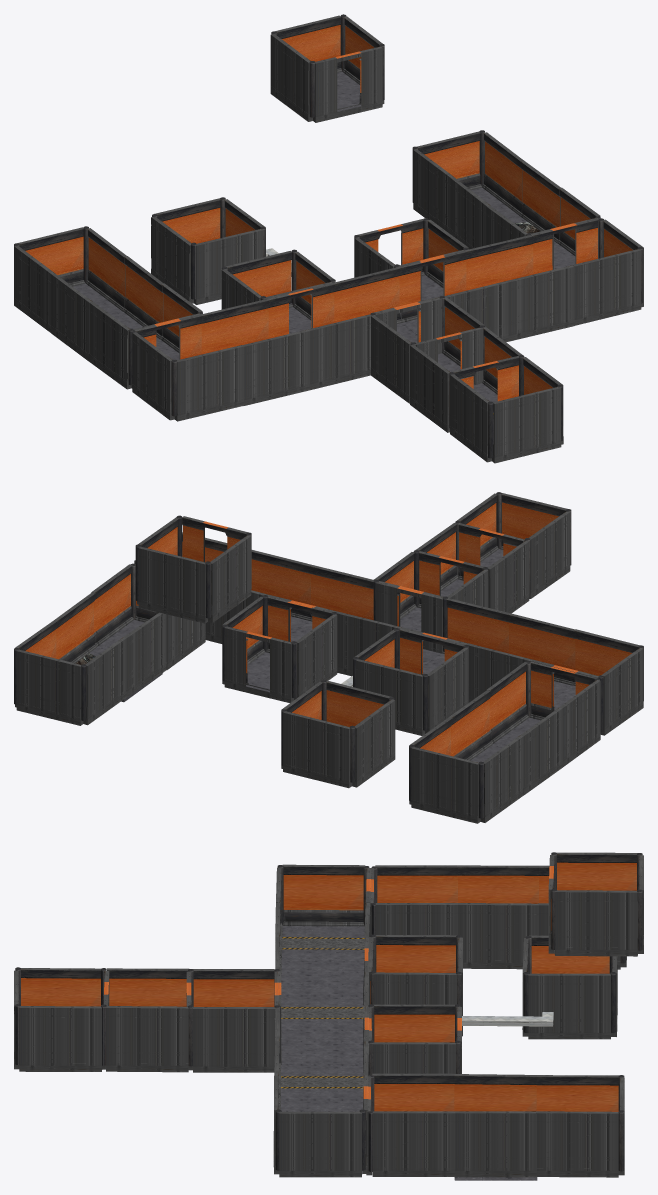
The model's file is Tutorial_Final.fbx.
3 views of the same model, one above another, from view 1: azimuth 30°, elevation 25°; view 2: azimuth 150°, elevation 25°; view 3: azimuth 270°, elevation 25° (orthographic). The views are drawn at different scales.
Parts seen in each view (by area): view 1: Wall_HallwayDoor.001, Wall_HallwayEnd.005, Wall_RoomDoor.002, Wall_RoomDoor.001, Wall_HallwayEnd.003, Wall_HallwayEnd.001, CornerPost.001, Wall_RoomDoor.003, CornerPost.009, CornerPost.006, Wall_Hallway.002, Wall_HallwayEndDoor.001; view 2: Wall_HallwayDoor.001, Wall_HallwayEnd.005, Wall_HallwayEnd.003, Wall_RoomDoor.002, CornerPost.006, Wall_RoomDoor.003, Wall_HallwayEnd.001, Wall_RoomDoor.001, CornerPost.001, CornerPost.009, Wall_HallwayEndDoor.001, Wall_Hallway.002 (+1 smaller); view 3: Wall_HallwayDoor.001, Wall_HallwayEnd.005, Wall_RoomDoor.002, Wall_RoomDoor.001, CornerPost.001, Wall_HallwayEndDoor.001, Wall_HallwayEnd.001, CornerPost.009, Wall_Hallway.002, Wall_HallwayEnd.003, Wall_RoomDoor.003, CornerPost.006.
Boxes of the visible parts, x1,y1,x2,y2 form: Wall_HallwayDoor.001: (132, 218, 643, 421); Wall_HallwayEnd.005: (14, 226, 202, 389); Wall_RoomDoor.002: (270, 14, 384, 122); Wall_RoomDoor.001: (449, 355, 563, 463); Wall_HallwayEnd.003: (151, 197, 265, 304); Wall_HallwayEnd.001: (412, 130, 523, 233); CornerPost.001: (370, 296, 485, 403); Wall_RoomDoor.003: (221, 249, 335, 333); CornerPost.009: (450, 160, 560, 249); CornerPost.006: (354, 218, 468, 300); Wall_Hallway.002: (410, 327, 522, 432); Wall_HallwayEndDoor.001: (486, 187, 600, 269); Wall_HallwayDoor.001: (134, 532, 643, 735); Wall_HallwayEnd.005: (409, 661, 600, 823); Wall_HallwayEnd.003: (281, 679, 395, 788); Wall_RoomDoor.002: (135, 515, 251, 623); CornerPost.006: (222, 595, 337, 702); Wall_RoomDoor.003: (353, 628, 468, 735); Wall_HallwayEnd.001: (14, 620, 126, 725); Wall_RoomDoor.001: (455, 492, 571, 598); CornerPost.001: (373, 550, 488, 653); CornerPost.009: (55, 592, 166, 702); Wall_HallwayEndDoor.001: (91, 563, 205, 669); Wall_Hallway.002: (415, 523, 529, 613); Wall_HallwayDoor.001: (273, 864, 371, 1177); Wall_HallwayEnd.005: (370, 865, 626, 969); Wall_RoomDoor.002: (548, 852, 643, 956); Wall_RoomDoor.001: (14, 967, 109, 1071); CornerPost.001: (186, 969, 281, 1072); Wall_HallwayEndDoor.001: (366, 1073, 455, 1176); Wall_HallwayEnd.001: (536, 1075, 624, 1177); CornerPost.009: (454, 1074, 537, 1180); Wall_Hallway.002: (106, 968, 188, 1072); Wall_HallwayEnd.003: (522, 935, 617, 1039); Wall_RoomDoor.003: (367, 934, 462, 1036); CornerPost.006: (367, 1004, 461, 1074).
Bounding box in the file's own units: 19938 × 8325 × 21357.
